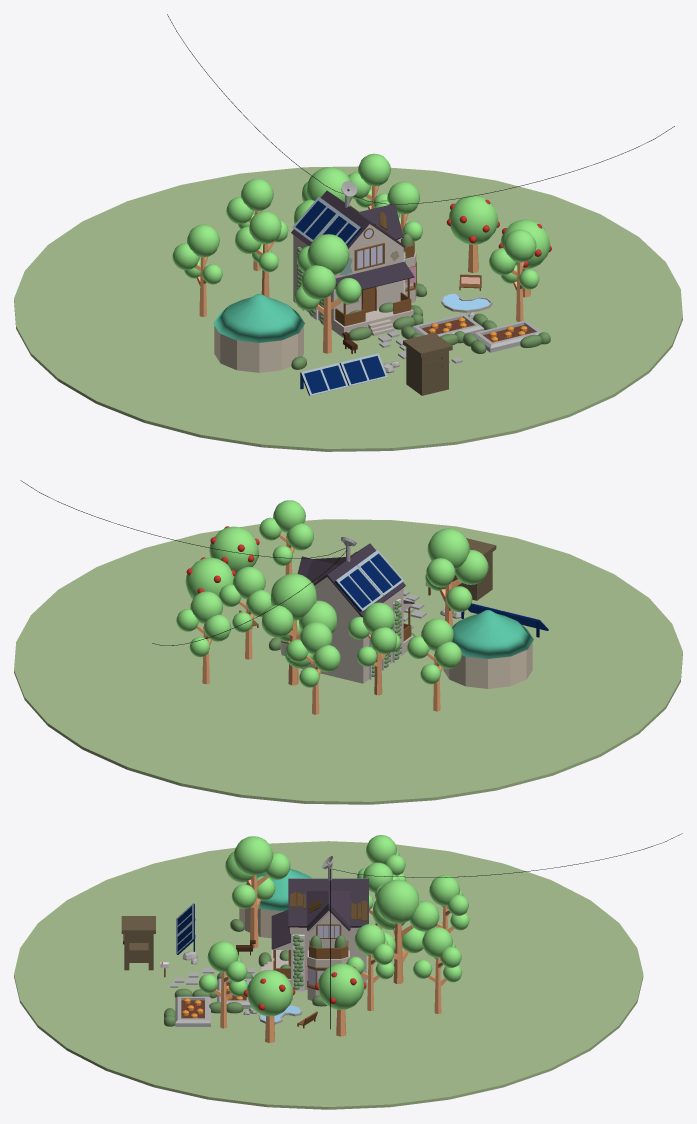
The model's file is bio_scene_3.glb.
3 views of the same model, one above another, from view 1: azimuth 30°, elevation 25°; view 2: azimuth 150°, elevation 25°; view 3: azimuth 270°, elevation 25° (orthographic). The views are drawn at different scales.
Parts seen in each view (by area): view 1: Ground, Glas.Erker, biogas.dach, biogas.grundriss, TradingHouse, Sphere.050, Dach.oben, Sphere.003, Dach.unten, Sphere.018, Sphere, Sphere.040 (+11 smaller); view 2: Ground, Glas.Erker, biogas.dach, biogas.grundriss, Dach.oben, Sphere.018, Sphere.040, Sphere.050, Sphere.003, TradingHouse, Solarpanel.haus.links.grundriss, Sphere.016 (+17 smaller); view 3: Ground, Dach.oben, Glas.Erker, Sphere.040, Sphere.050, TradingHouse, Sphere.018, Sphere.003, biogas.dach, Sphere.023, Sphere.013, Sphere.028 (+16 smaller).
Part boxes in pixels (box(x1,y1,x2,y2)): Ground: box(14, 166, 682, 451); Glas.Erker: box(293, 224, 416, 337); biogas.dach: box(213, 293, 304, 342); biogas.grundriss: box(214, 326, 303, 372); TradingHouse: box(403, 333, 452, 395); Sphere.050: box(448, 195, 498, 244); Dach.oben: box(291, 190, 405, 248); Sphere.003: box(307, 234, 349, 275); Dach.unten: box(335, 261, 414, 289); Sphere.018: box(307, 167, 351, 202); Sphere: box(301, 265, 336, 299); Sphere.040: box(500, 219, 550, 268); Ground: box(14, 519, 682, 804); Glas.Erker: box(280, 577, 413, 683); biogas.dach: box(452, 610, 533, 658); biogas.grundriss: box(443, 642, 532, 688); Dach.oben: box(297, 543, 405, 617); Sphere.018: box(270, 573, 316, 620); Sphere.040: box(209, 526, 258, 573); Sphere.050: box(185, 557, 234, 599); Sphere.003: box(427, 528, 469, 569); TradingHouse: box(452, 538, 496, 600); Solarpanel.haus.links.grundriss: box(334, 569, 380, 611); Sphere.016: box(261, 605, 293, 637); Ground: box(14, 841, 643, 1109); Dach.oben: box(288, 878, 368, 930); Glas.Erker: box(271, 911, 366, 1000); Sphere.040: box(247, 970, 293, 1016); Sphere.050: box(318, 963, 364, 1009); TradingHouse: box(121, 916, 155, 970); Sphere.018: box(376, 879, 418, 923); Sphere.003: box(233, 836, 273, 875); biogas.dach: box(244, 869, 311, 911); Sphere.023: box(207, 941, 238, 972); Sphere.013: box(354, 924, 385, 954); Sphere.028: box(429, 875, 459, 905).
Size of the model in its own units: 54.13 by 14.73 by 54.1.
